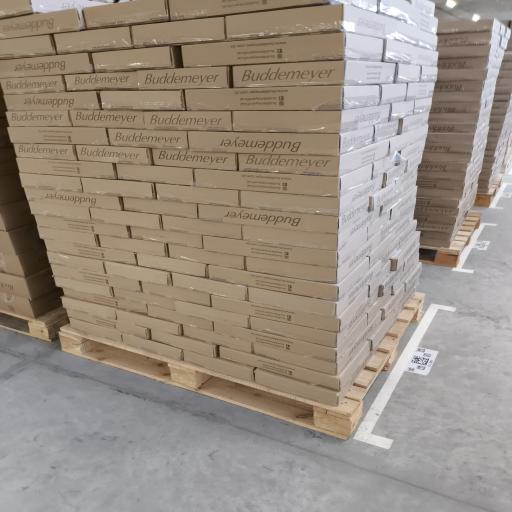pallet: (60, 293, 424, 439), (420, 211, 481, 267), (0, 307, 68, 341), (474, 174, 503, 207)
